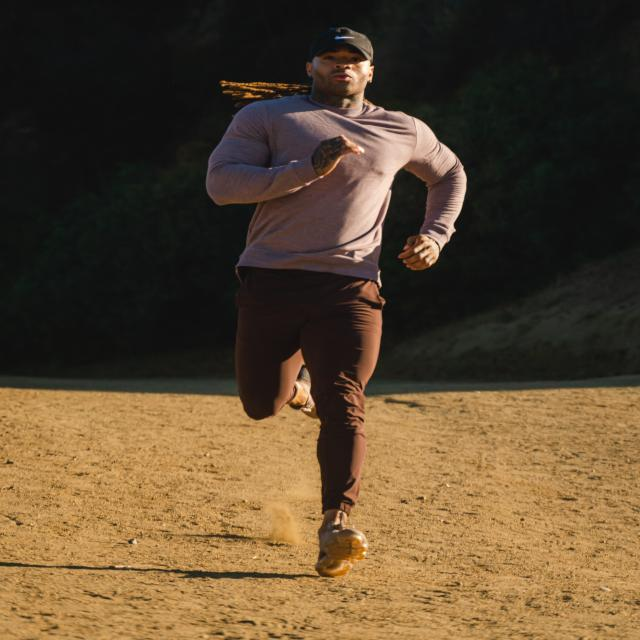running: (205, 29, 467, 583)
